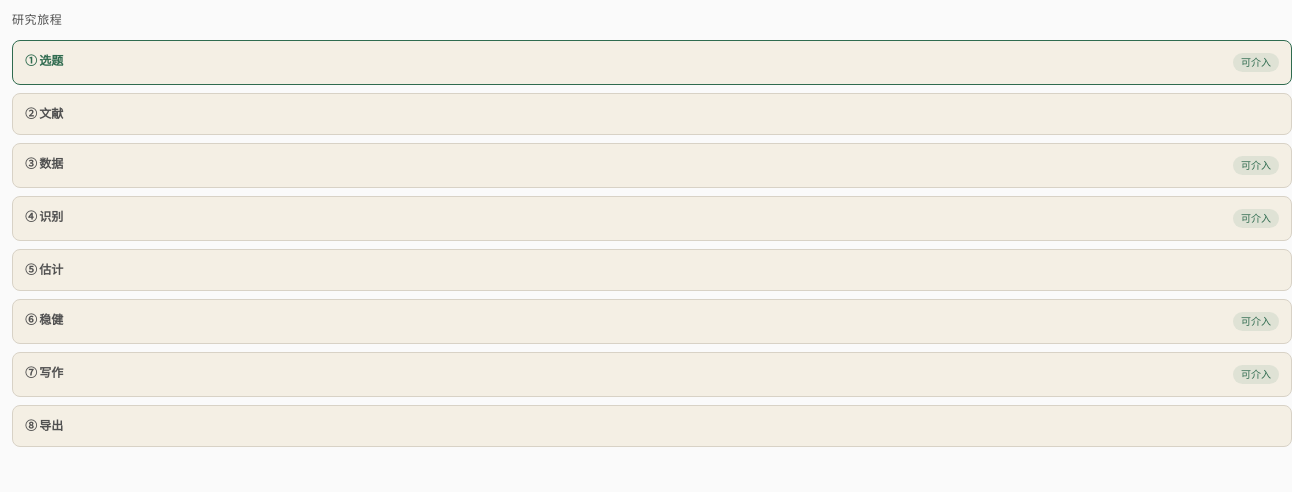
Test: JourneyTimeline 8阶段研究旅程（收敛版） › 点击卡片展开显示描述文本，再次点击折叠
The image size is (1292, 492).
Check: the element with test id "journey-stage-0" does not show "四问"
点击展开 → 描述文本出现
Click the element with test id "journey-stage-0". click: (652, 62)
box: x1=12 y1=40 x2=1291 y2=85
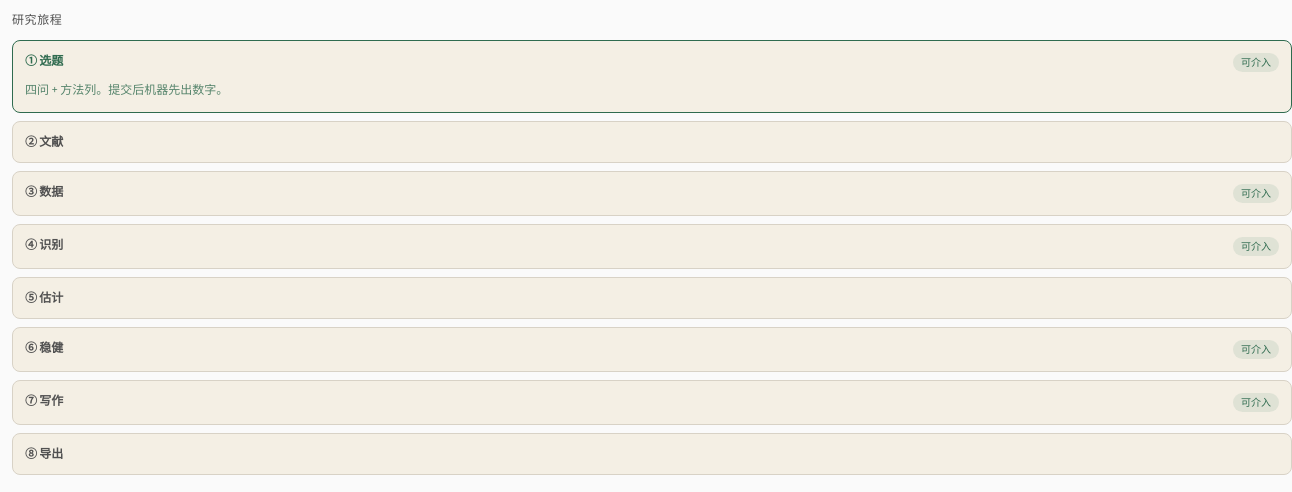
Check: the element with test id "journey-stage-0" shows "四问", box x1=25 y1=82 x2=228 y2=97
再次点击折叠 → 描述文本消失
Click the element with test id "journey-stage-0". click: (652, 76)
box: x1=12 y1=40 x2=1291 y2=112
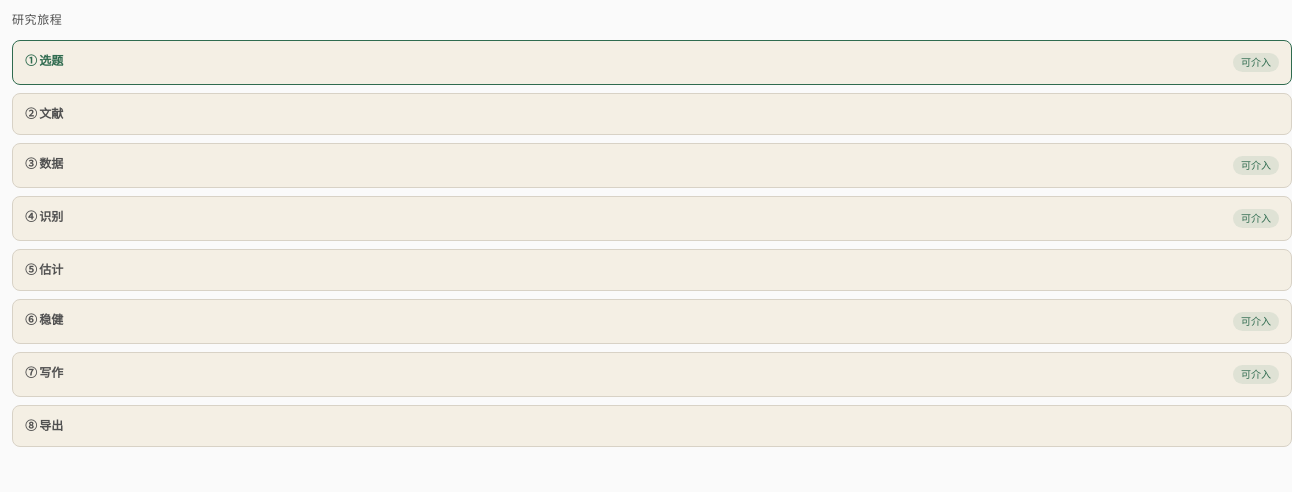
Check: the text with test id "journey-stage-0" no longer shows "四问"
